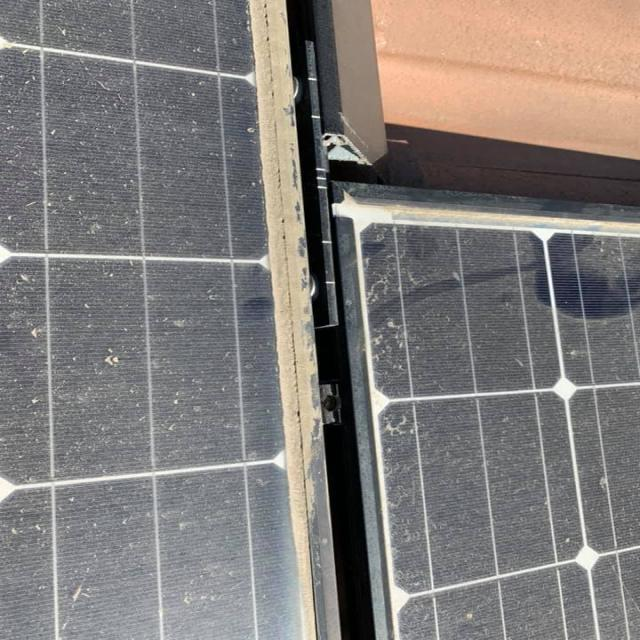dust-solar-panel: (0, 0, 327, 640), (338, 215, 640, 640)
